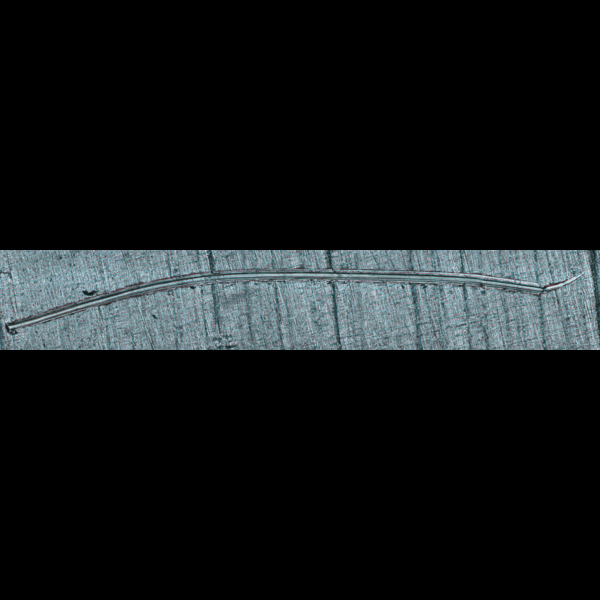d: (3, 264, 588, 339)
